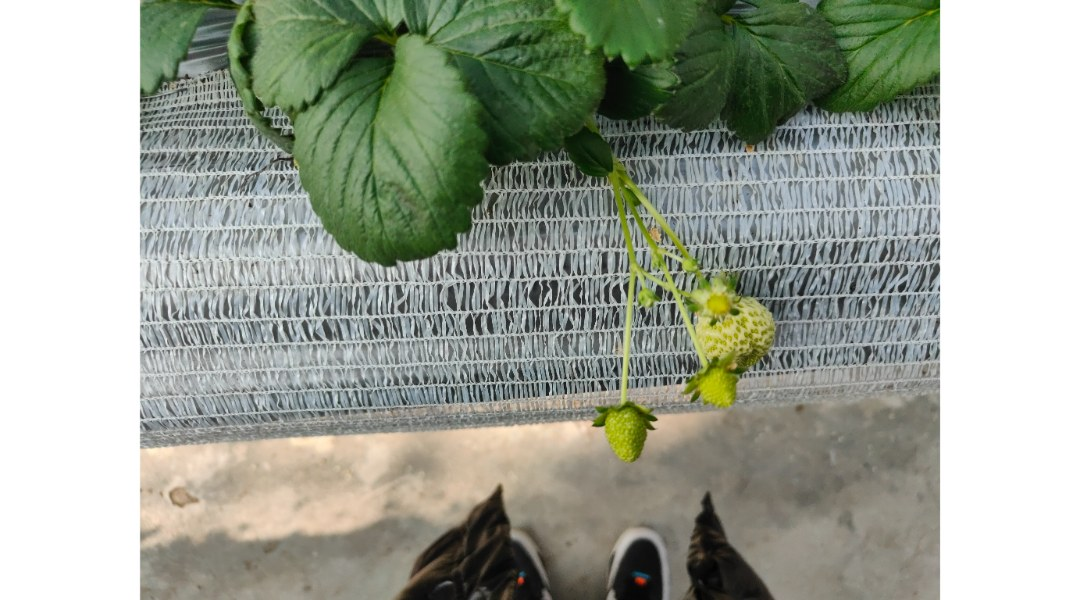berry: (691, 288, 782, 363), (590, 402, 659, 485), (678, 350, 744, 410), (698, 266, 739, 331), (675, 246, 703, 288), (636, 281, 661, 316)
strain: (631, 174, 704, 267), (675, 299, 707, 372), (617, 288, 634, 415), (607, 199, 636, 271), (639, 227, 664, 259)
